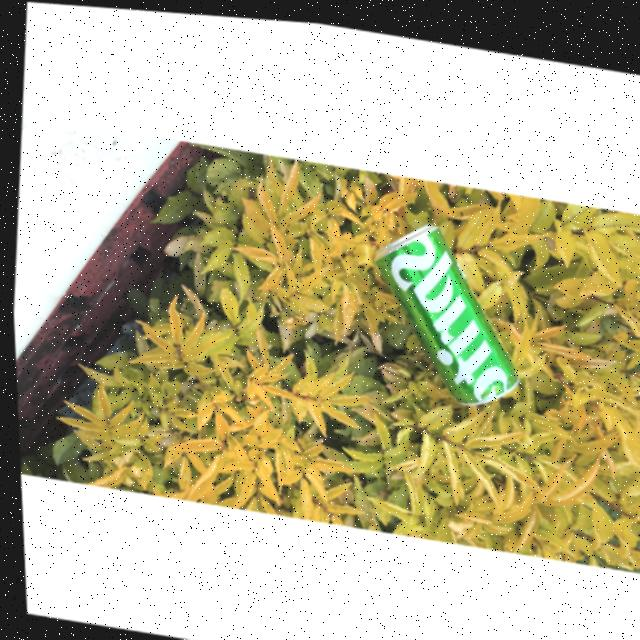Sprite: (359, 210, 529, 399)
